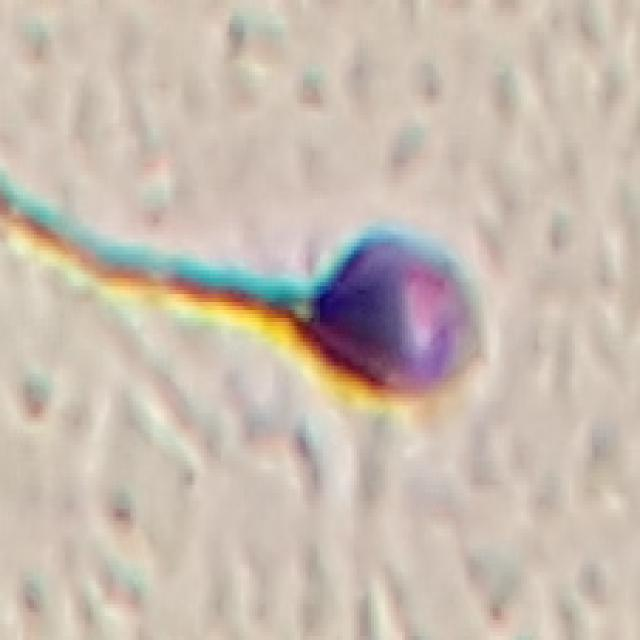normal sperm: (205, 226, 488, 408)
